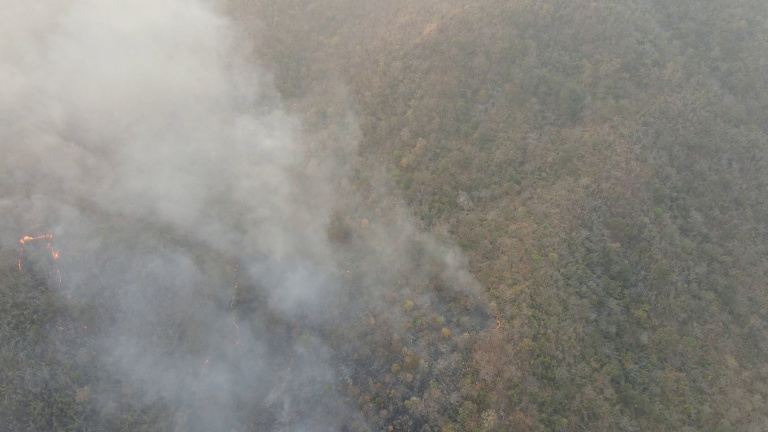fire: (204, 249, 243, 372), (15, 233, 66, 286), (478, 304, 506, 359)
smoke: (1, 1, 498, 428)
